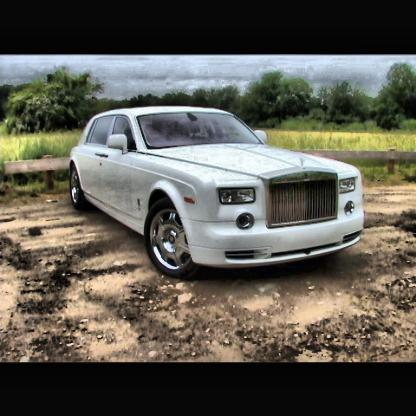Rolls-Royce Phantom Sedan 2012: (62, 92, 379, 287)
